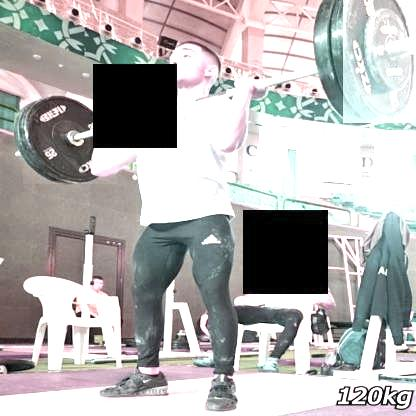barbell: (343, 1, 416, 124), (24, 95, 118, 184)
